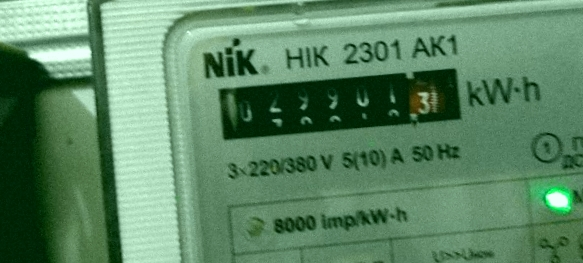0: (234, 94, 255, 123), (352, 78, 371, 109)
1: (383, 75, 399, 104)
2: (264, 86, 284, 114)
3: (413, 87, 433, 115)
9: (294, 83, 312, 112), (325, 82, 340, 110)
screen: (208, 56, 473, 150)
